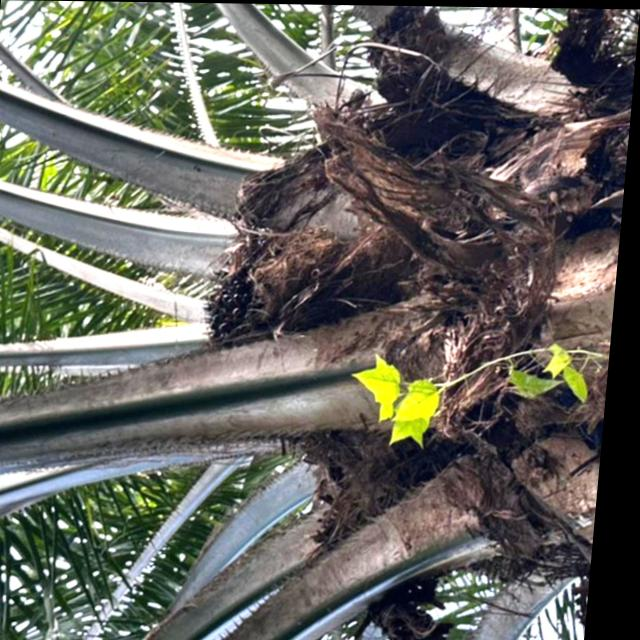unripe: (199, 220, 366, 373)
